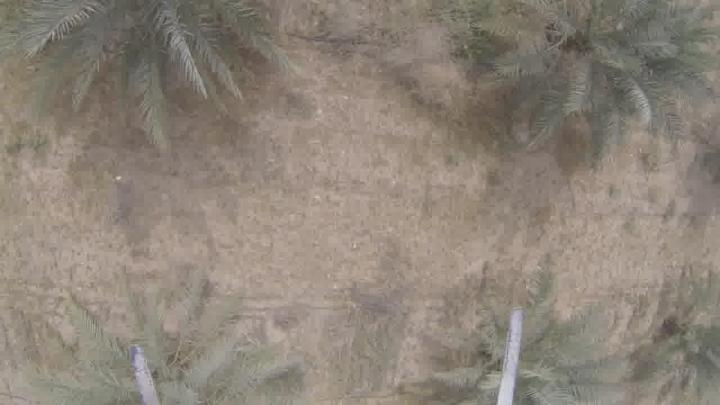Date-Palm-Crown: (22, 0, 248, 110), (503, 0, 680, 122), (54, 323, 276, 405), (422, 324, 610, 404), (652, 293, 719, 405)
